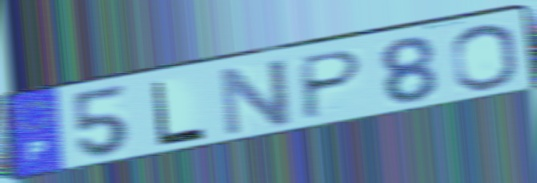5: (69, 82, 132, 162)
8: (377, 35, 441, 107)
L: (150, 78, 209, 149)
N: (217, 55, 294, 141)
O: (448, 22, 522, 93)
P: (299, 47, 366, 124)
